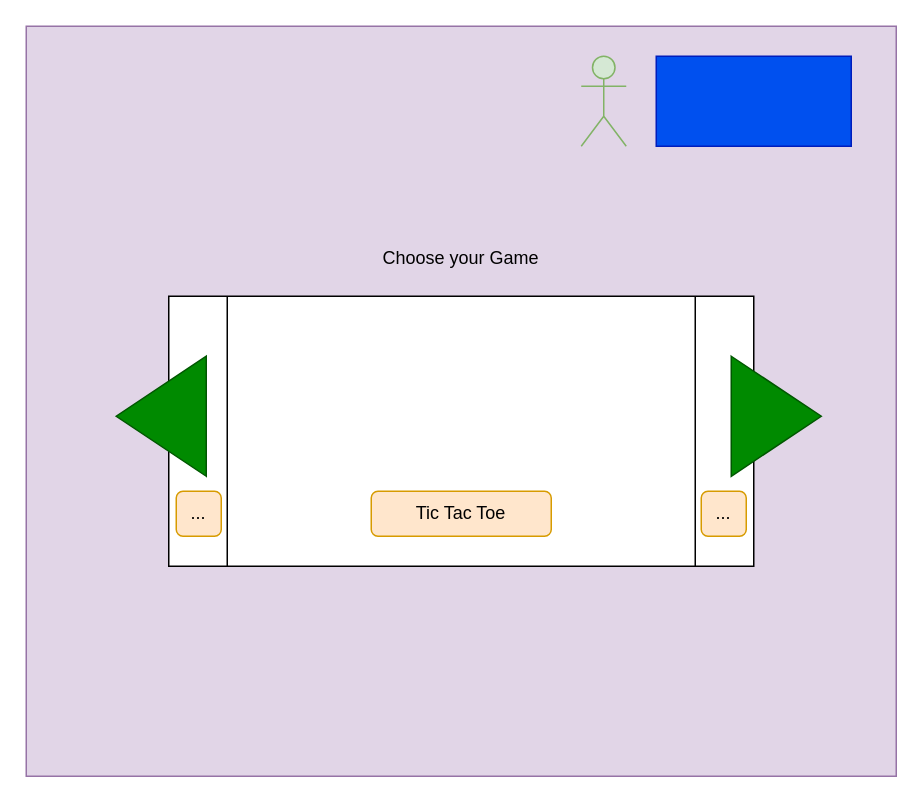
Image size: 923x803. Some labels were removed from this diagram. Each missing label, with the centre of its shape:
"Name: Session Score: Recent Achievment" goes at point (753, 100).
"Profile Pic" goes at point (603, 100).
